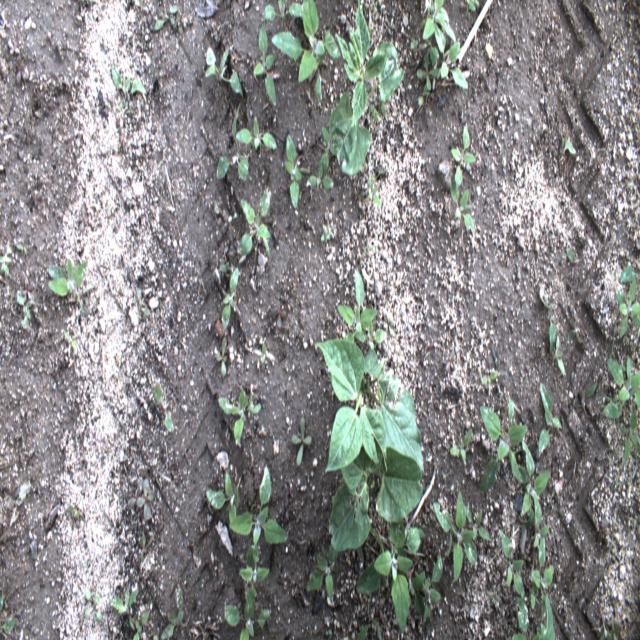crop: (316, 333, 428, 556), (328, 0, 406, 179), (351, 524, 444, 632), (334, 262, 401, 347)
weed: (271, 0, 340, 108), (206, 461, 290, 547), (432, 485, 490, 588), (413, 0, 472, 98), (478, 391, 530, 497), (215, 105, 280, 185), (514, 441, 554, 566), (222, 541, 274, 637), (499, 527, 531, 637), (217, 378, 266, 445), (41, 254, 92, 318), (125, 471, 162, 554), (538, 288, 569, 382), (602, 349, 638, 424), (239, 183, 272, 262), (109, 61, 153, 120), (202, 42, 245, 98), (446, 108, 477, 185), (252, 20, 278, 110), (148, 371, 180, 441), (156, 575, 191, 638), (283, 128, 308, 215), (448, 173, 476, 250), (612, 260, 638, 342), (528, 562, 556, 638), (308, 121, 337, 192), (536, 378, 562, 455), (614, 399, 638, 476), (306, 548, 337, 606), (14, 270, 43, 330), (287, 414, 316, 471), (218, 258, 242, 326), (446, 420, 474, 474), (149, 3, 188, 41), (248, 330, 278, 378), (110, 576, 140, 620), (79, 585, 106, 633), (592, 597, 625, 636), (260, 295, 291, 336), (576, 375, 602, 419), (361, 166, 385, 212), (260, 1, 304, 26), (0, 589, 20, 638), (126, 604, 153, 638), (215, 328, 232, 382), (12, 50, 32, 94), (133, 281, 153, 325), (315, 218, 339, 254), (564, 236, 590, 268), (213, 204, 239, 233), (0, 237, 16, 284), (355, 613, 385, 638), (59, 318, 78, 355), (477, 368, 501, 396), (192, 617, 223, 637), (568, 314, 586, 348), (66, 497, 84, 529), (560, 128, 578, 160), (74, 198, 90, 232), (363, 0, 387, 22), (29, 186, 49, 212), (115, 129, 132, 157), (622, 159, 634, 195), (13, 232, 29, 258), (464, 0, 480, 25), (23, 440, 37, 463), (407, 31, 417, 54), (322, 624, 336, 637)
